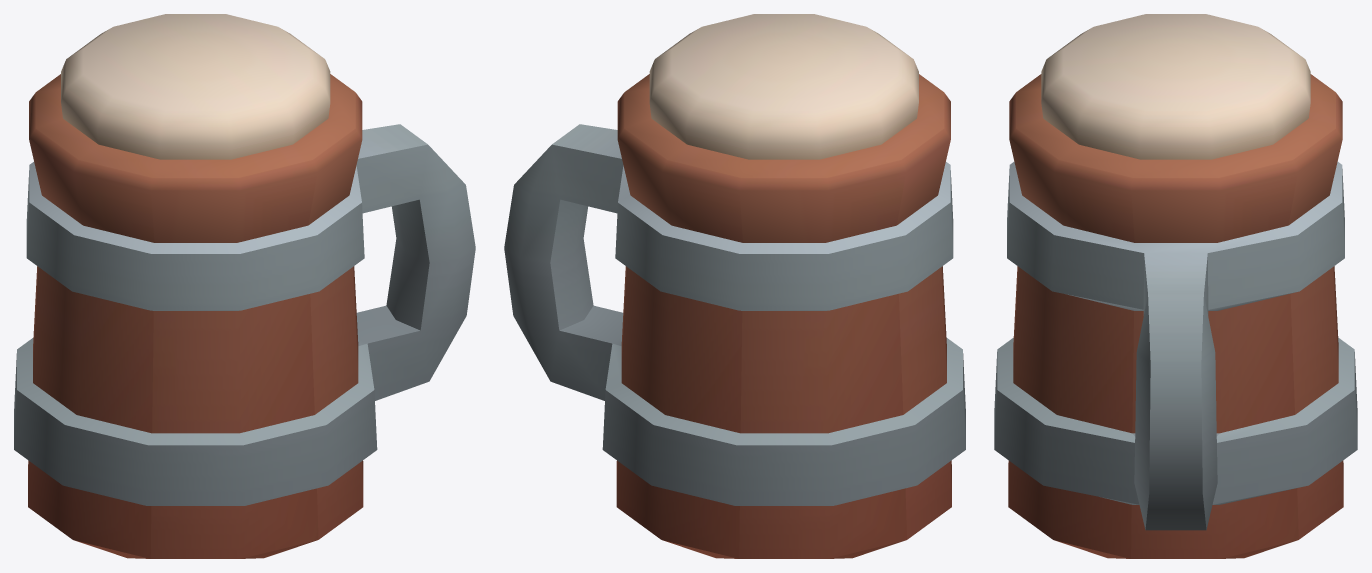
File: tankard.glb
3 views of the same model, side by side, from view 1: azimuth 30°, elevation 25°; view 2: azimuth 150°, elevation 25°; view 3: azimuth 270°, elevation 25° (orthographic).
Visible parts, largest first — view 1: mug_full; view 2: mug_full; view 3: mug_full.
Part boxes in pixels (x1=…): mug_full: x1=14, y1=14, x2=475, y2=558; mug_full: x1=504, y1=14, x2=965, y2=558; mug_full: x1=994, y1=14, x2=1357, y2=558.
Size of the model in its own units: 0.1461 by 0.15 by 0.1083.
Materials: 1 (1 with a texture image).
